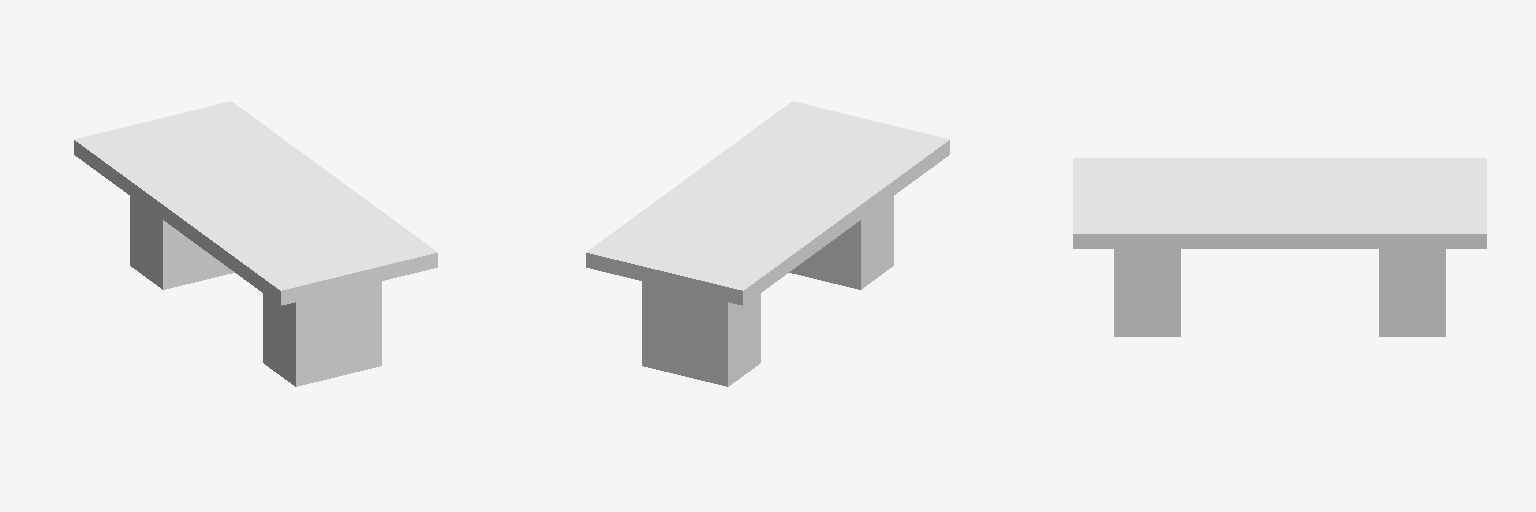
The model's file is Table05.obj.
3 views of the same model, side by side, from view 1: azimuth 30°, elevation 25°; view 2: azimuth 150°, elevation 25°; view 3: azimuth 270°, elevation 25° (orthographic).
Parts seen in each view (by area): view 1: Table05; view 2: Table05; view 3: Table05.
Part boxes in pixels (x1,y1,x2,y2): Table05: (74, 101, 437, 386); Table05: (586, 101, 949, 386); Table05: (1073, 158, 1486, 336).
Bounding box in the file's own units: 22 × 16 × 50.